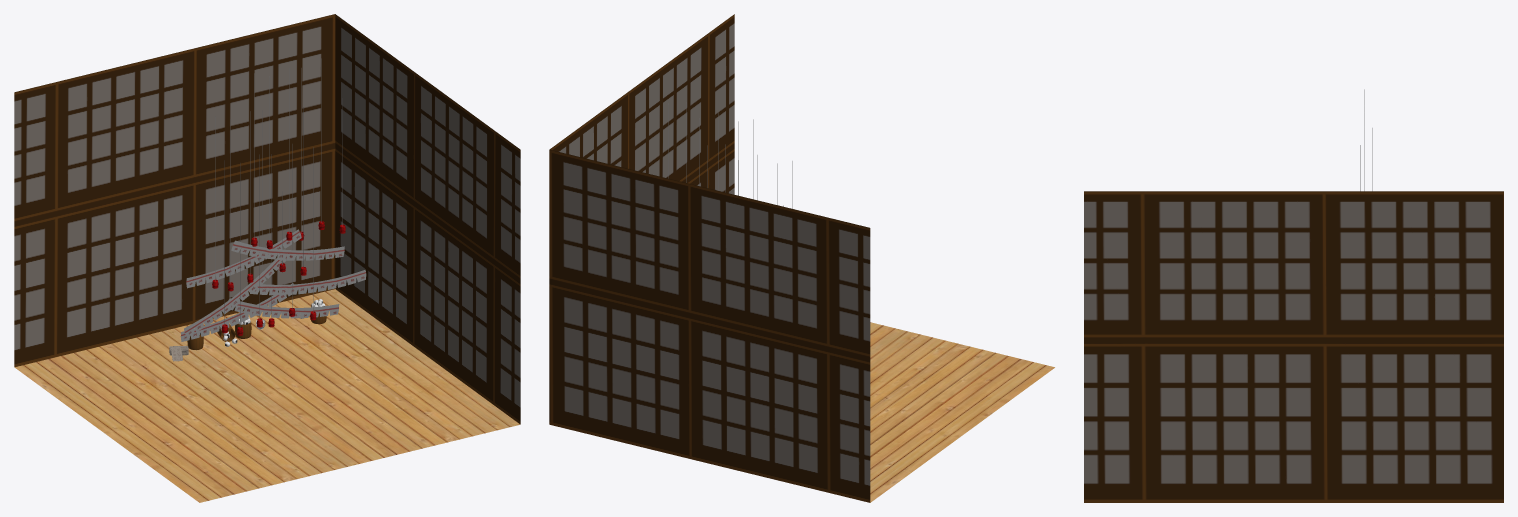
The model's file is Dojo_Level.fbx.
3 views of the same model, side by side, from view 1: azimuth 30°, elevation 25°; view 2: azimuth 150°, elevation 25°; view 3: azimuth 270°, elevation 25° (orthographic). The views are drawn at different scales.
Parts seen in each view (by area): view 1: Wall_N_Floor, Flag_1_5, Flag_1_3, Flag_1_2, Flag_1_6, Flag_1_4, Flag_1_1; view 2: Wall_N_Floor; view 3: Wall_N_Floor.
Boxes of the visible parts, <box> form: Wall_N_Floor: <box>14,14,520,502</box>; Flag_1_5: <box>231,240,344,260</box>; Flag_1_3: <box>250,269,366,295</box>; Flag_1_2: <box>184,249,286,337</box>; Flag_1_6: <box>228,298,339,318</box>; Flag_1_4: <box>186,229,301,288</box>; Flag_1_1: <box>180,283,293,341</box>; Wall_N_Floor: <box>549,14,1054,502</box>; Wall_N_Floor: <box>1084,191,1503,502</box>.
Bounding box in the file's own units: 1738 × 1533 × 1738.
